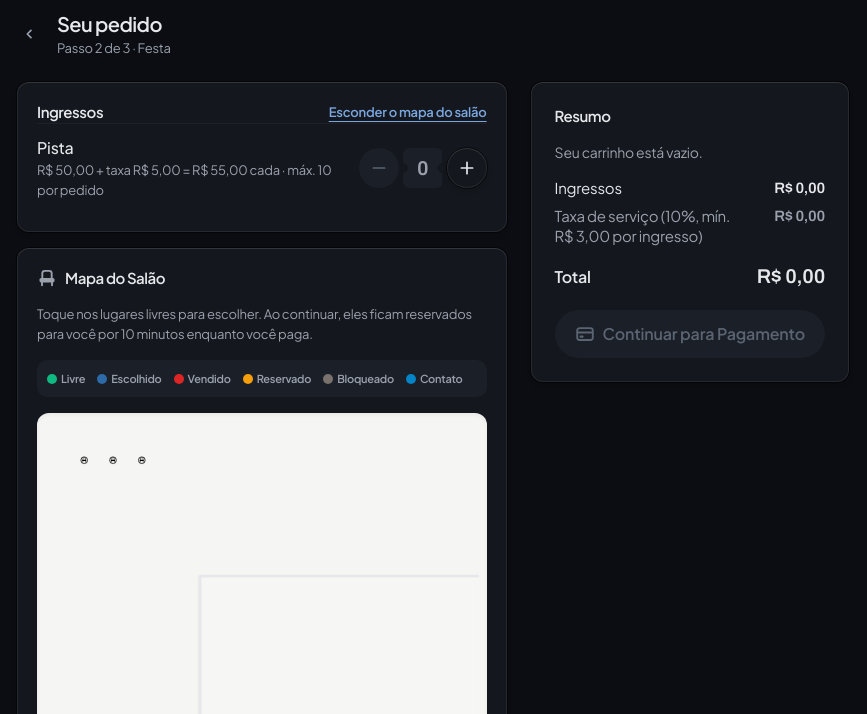
it: Checkout com mapa de assentos (lugar marcado) › lugar tomado na hora: o banco recusa, o aviso aparece e o lugar sai da escolha
Click the button named "A1".
click(84, 460)  # box x1=80 y1=457 x2=87 y2=464
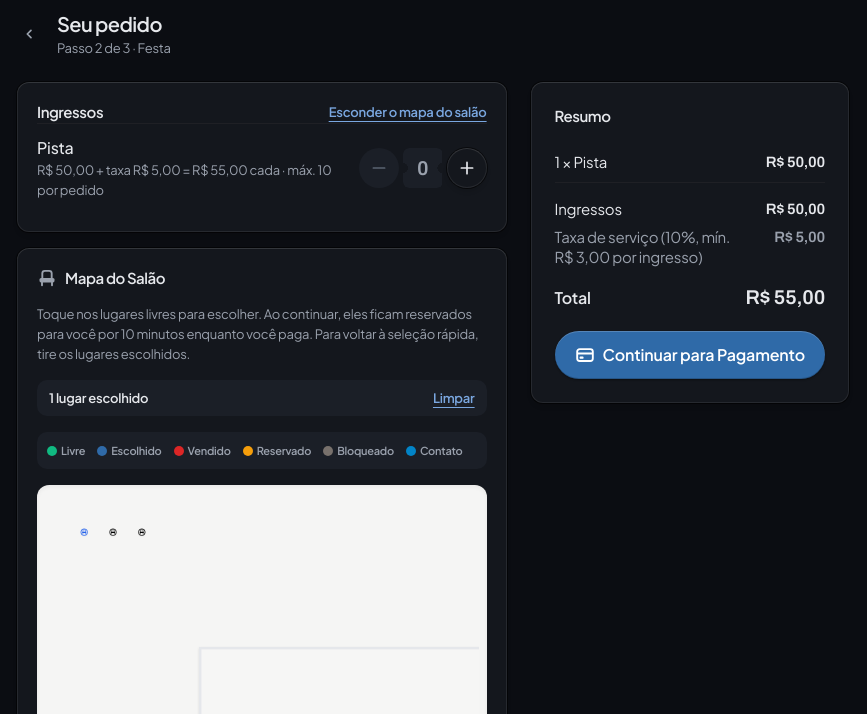
Click the button "Continuar para Pagamento".
click(690, 355)  # box x1=555 y1=331 x2=825 y2=379
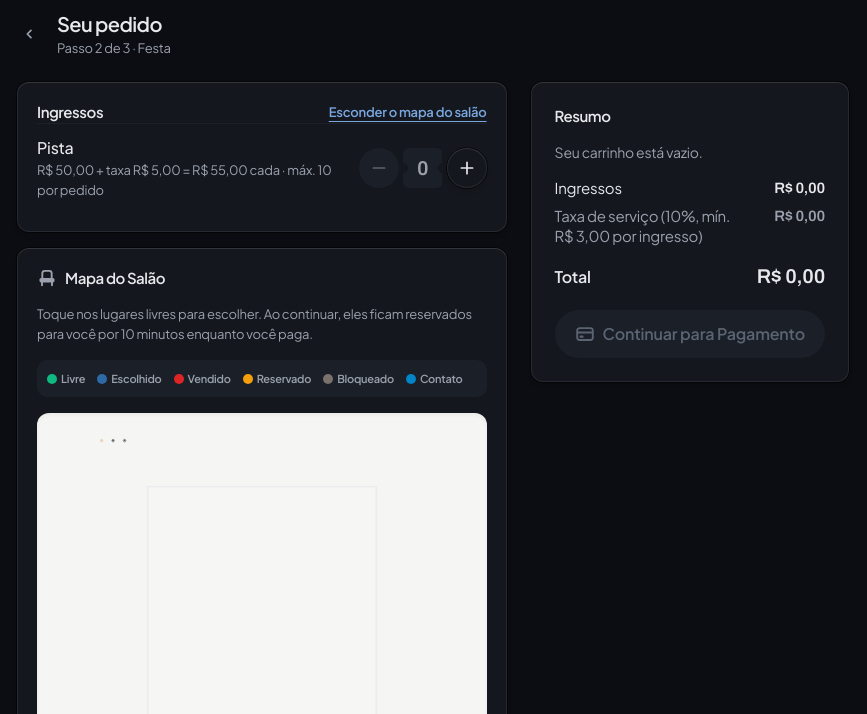
Expected: the text "1 lugar escolhido" is gone
